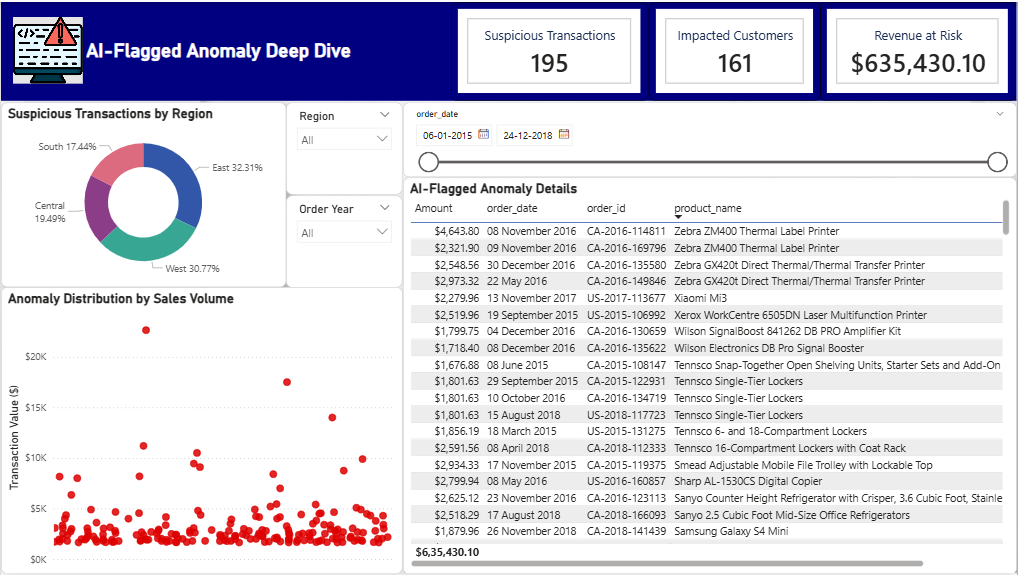

What the dashboard file says about the page in this screenshot:
{"tool":"powerbi","page":{"name":"AI Anomaly Investigation ","canvas":[1280,720],"ordinal":1},"visuals":[{"type":"tableEx","title":"AI-Flagged Anomaly Details","fields":{"Values":["Sum(anomalies.sales)","anomalies.order_date","anomalies.order_id","anomalies.product_name"]},"box":[506.1,220.4,773.5,500],"z":0},{"type":"shape","box":[0,0,1279.6,124.5],"z":1000},{"type":"donutChart","fields":{"Category":["anomalies.region"],"Y":["CountNonNull(anomalies.order_date)"]},"box":[0,126.5,359.2,232.7],"z":2000},{"type":"textbox","title":"AI-Flagged Anomaly Deep Dive","box":[102,46.9,375.5,32.7],"z":3000},{"type":"image","box":[14.3,18.4,87.8,83.7],"z":4000},{"type":"cardVisual","fields":{"Data":["Count(anomalies.customer_name)"]},"box":[816.3,0,216.3,124.5],"z":5000},{"type":"cardVisual","fields":{"Data":["anomalies.Exact Revenue at Risk"]},"box":[1032.7,0,246.9,124.5],"z":6000},{"type":"cardVisual","fields":{"Data":["CountNonNull(anomalies.anomaly_flag)"]},"box":[567.3,0,249,124.5],"z":7000},{"type":"slicer","fields":{"Values":["sales_data.Order Year"]},"box":[359.2,242.9,146.9,116.3],"z":8000},{"type":"slicer","fields":{"Values":["sales_data.region"]},"box":[359.2,126.5,146.9,116.3],"z":9000},{"type":"scatterChart","title":"Anomaly Distribution by Sales Volume","fields":{"Y":["Sum(anomalies.sales)"],"X":["anomalies.row_id"]},"box":[0,359.2,506.1,361.2],"z":10000},{"type":"slicer","fields":{"Values":["anomalies.order_date"]},"box":[506.1,126.5,773.5,93.9],"z":11000}]}

Visuals, with their boxes in screenshot pixels (x1, y1, x2, y2), scaled from the page's 1280x720 canvas onto the 1018x575 screenshot:
"AI-Flagged Anomaly Details" tableEx: {"x1": 403, "y1": 176, "x2": 1017, "y2": 574}
shape: {"x1": 0, "y1": 0, "x2": 1017, "y2": 99}
donutChart - anomalies.region x CountNonNull(anomalies.order_date): {"x1": 0, "y1": 101, "x2": 286, "y2": 287}
"AI-Flagged Anomaly Deep Dive" textbox: {"x1": 81, "y1": 37, "x2": 380, "y2": 64}
image: {"x1": 11, "y1": 15, "x2": 81, "y2": 82}
cardVisual - Count(anomalies.customer_name): {"x1": 649, "y1": 0, "x2": 821, "y2": 99}
cardVisual - anomalies.Exact Revenue at Risk: {"x1": 821, "y1": 0, "x2": 1017, "y2": 99}
cardVisual - CountNonNull(anomalies.anomaly_flag): {"x1": 451, "y1": 0, "x2": 649, "y2": 99}
slicer - sales_data.Order Year: {"x1": 286, "y1": 194, "x2": 403, "y2": 287}
slicer - sales_data.region: {"x1": 286, "y1": 101, "x2": 403, "y2": 194}
"Anomaly Distribution by Sales Volume" scatterChart: {"x1": 0, "y1": 287, "x2": 403, "y2": 574}
slicer - anomalies.order_date: {"x1": 403, "y1": 101, "x2": 1017, "y2": 176}
